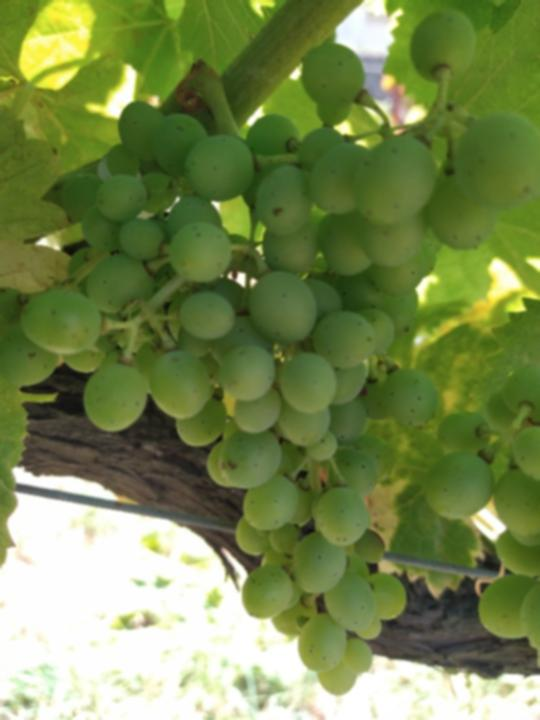grape: (10, 8, 536, 700)
